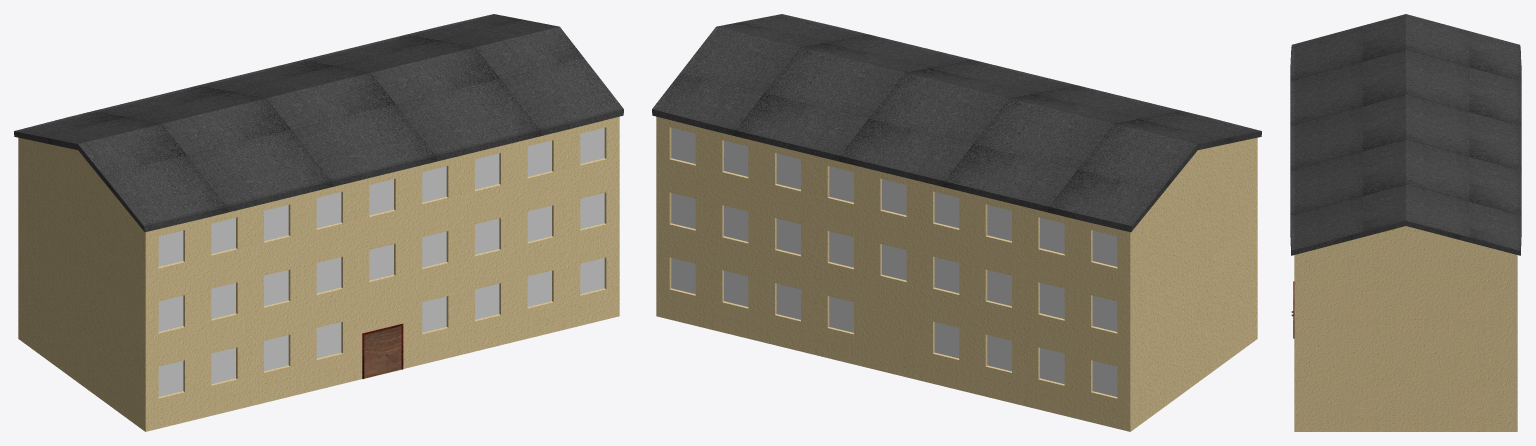
Rendered from APARTMENT_07.fbx.
3 renders of one model, left to right at view 1: azimuth 30°, elevation 25°; view 2: azimuth 150°, elevation 25°; view 3: azimuth 270°, elevation 25°, orthographic. The views are drawn at different scales.
Parts seen in each view (by area): view 1: APARTMENT_07; view 2: APARTMENT_07; view 3: APARTMENT_07.
Boxes of the visible parts, x1,y1,x2,y2 form: APARTMENT_07: (14,14,623,431); APARTMENT_07: (652,14,1261,431); APARTMENT_07: (1290,14,1521,431).
Size of the model in its own units: 2542 by 1221 by 1203.
